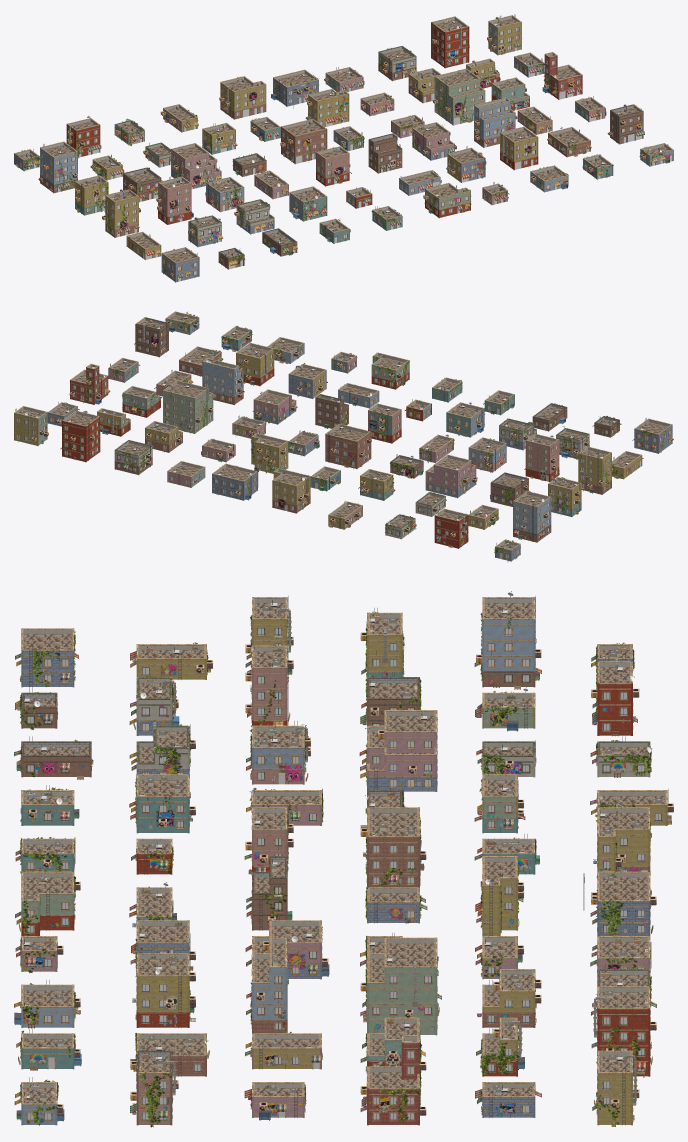
Rendered from kit_buildings.glb.
3 views of the same model, one above another, from view 1: azimuth 30°, elevation 25°; view 2: azimuth 150°, elevation 25°; view 3: azimuth 270°, elevation 25° (orthographic). The views are drawn at different scales.
Parts seen in each view (by area): view 1: no part large enough to name; view 2: no part large enough to name; view 3: kit_027, kit_005, kit_024, kit_022, kit_048, kit_055, kit_036.
Boxes of the visible parts, x1=… form: kit_027: x1=369, y1=943, x2=434, y2=981; kit_005: x1=600, y1=877, x2=647, y2=900; kit_024: x1=369, y1=813, x2=417, y2=835; kit_022: x1=369, y1=716, x2=434, y2=769; kit_048: x1=139, y1=1039, x2=204, y2=1054; kit_055: x1=24, y1=877, x2=71, y2=900; kit_036: x1=254, y1=926, x2=319, y2=953.
Bounding box in the file's own units: 191 × 14.77 × 115.
Materials: 27 (19 with a texture image).
